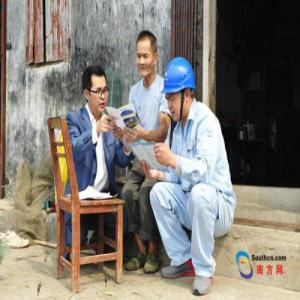blue: (164, 58, 197, 122)
none: (81, 66, 109, 113), (136, 32, 160, 81)
